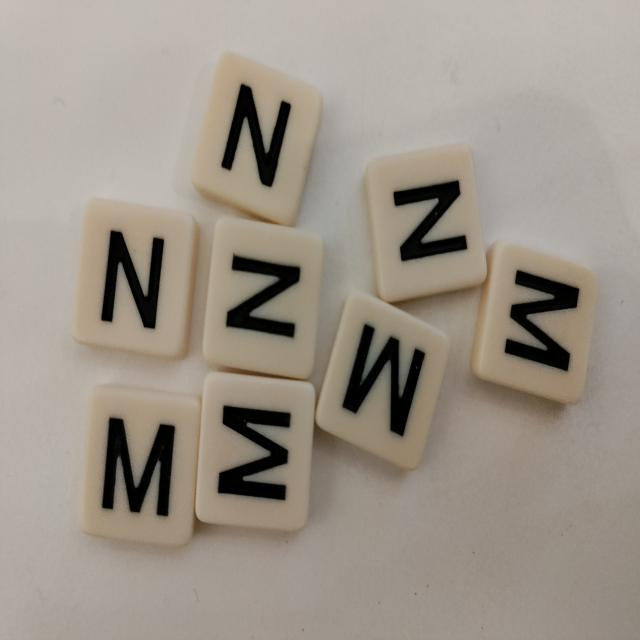m: (311, 284, 454, 477), (468, 238, 599, 411), (78, 383, 202, 551), (193, 369, 317, 532)
n: (189, 49, 327, 232), (70, 196, 202, 363), (363, 140, 489, 306), (200, 215, 324, 383)
